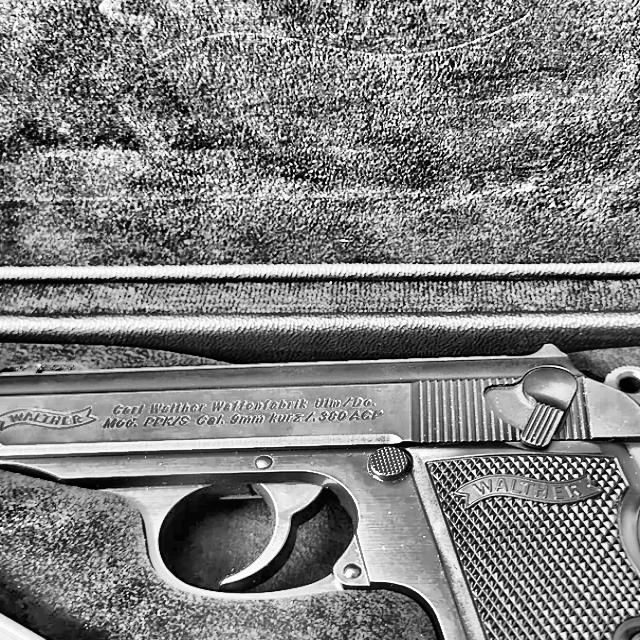Walther: (0, 334, 640, 640)
